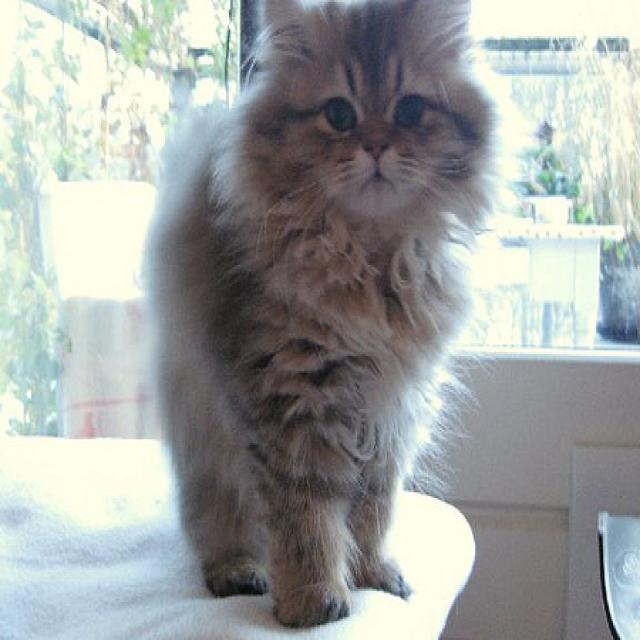Persian: (133, 0, 502, 632)
